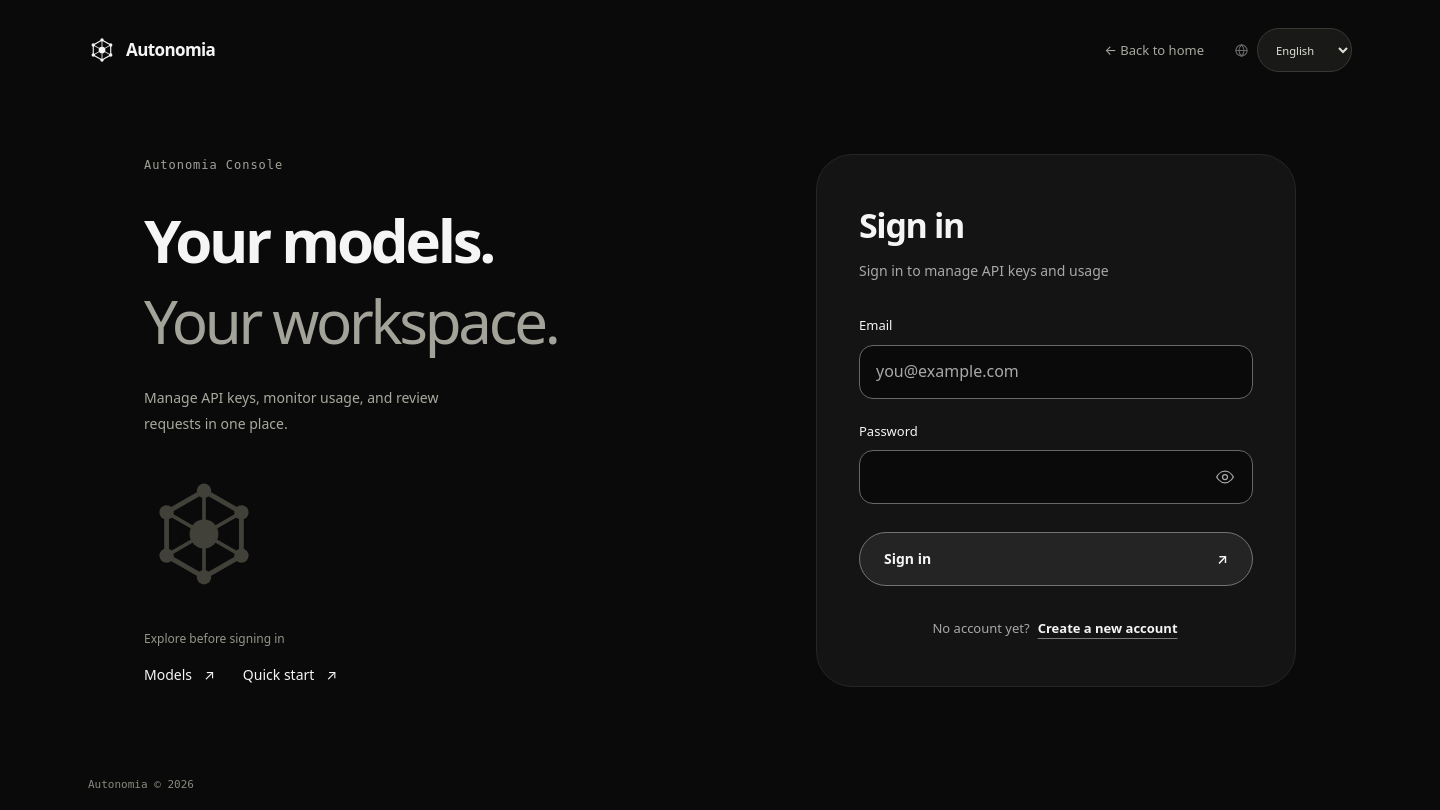
Test: LoginPage › toggles password visibility without losing its value in register mode
Click the button "Create a new account" at coordinates (1108, 628), box [1036,606,1180,650]
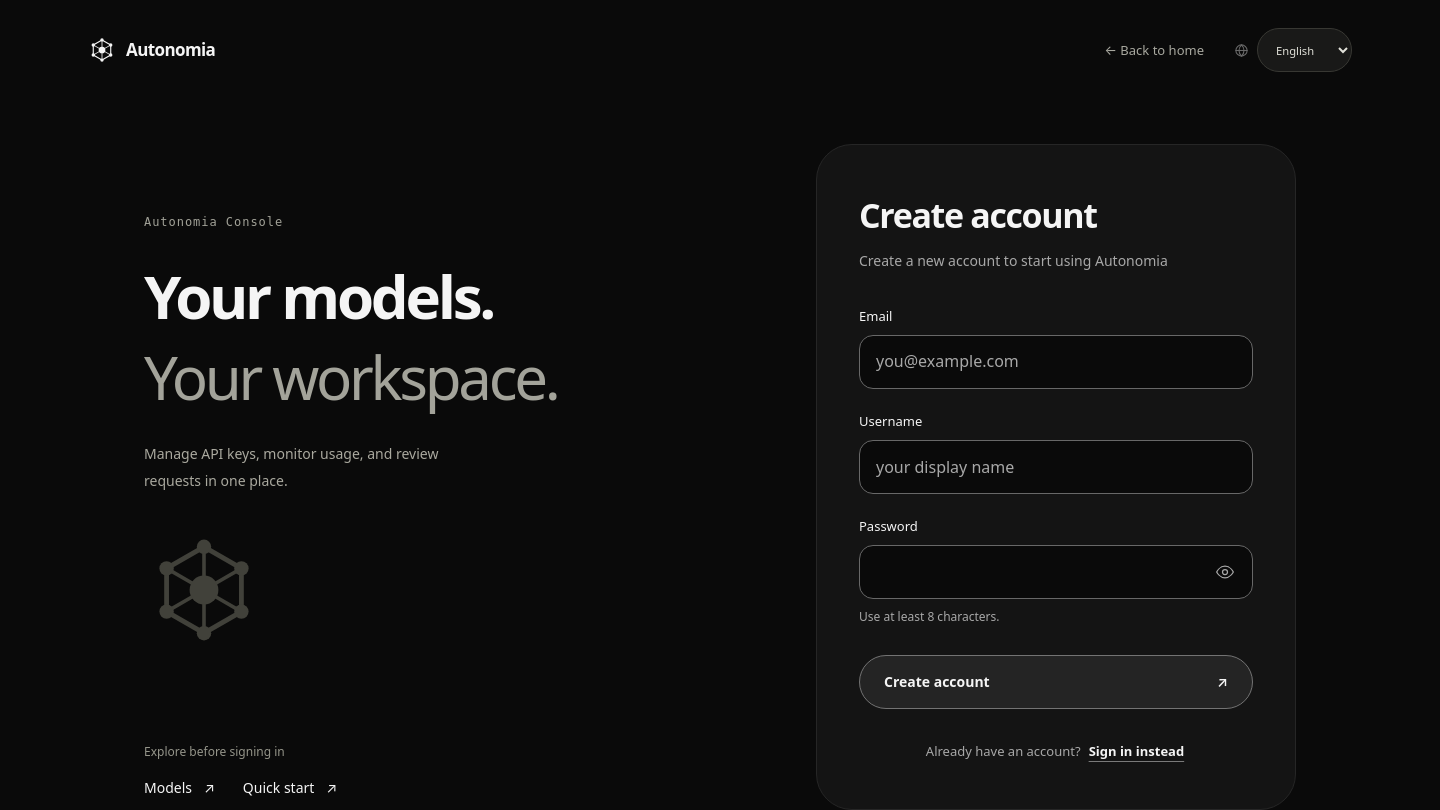
Type "login-test@example.com" into the field labelled "Email" at coordinates (1056, 362), box [859,335,1253,389]
Type "test-only-password" into the password field labelled "Password" at coordinates (1056, 572), box [859,545,1253,599]
Type "test-user" into the field labelled "Username" at coordinates (1056, 467), box [859,440,1253,494]
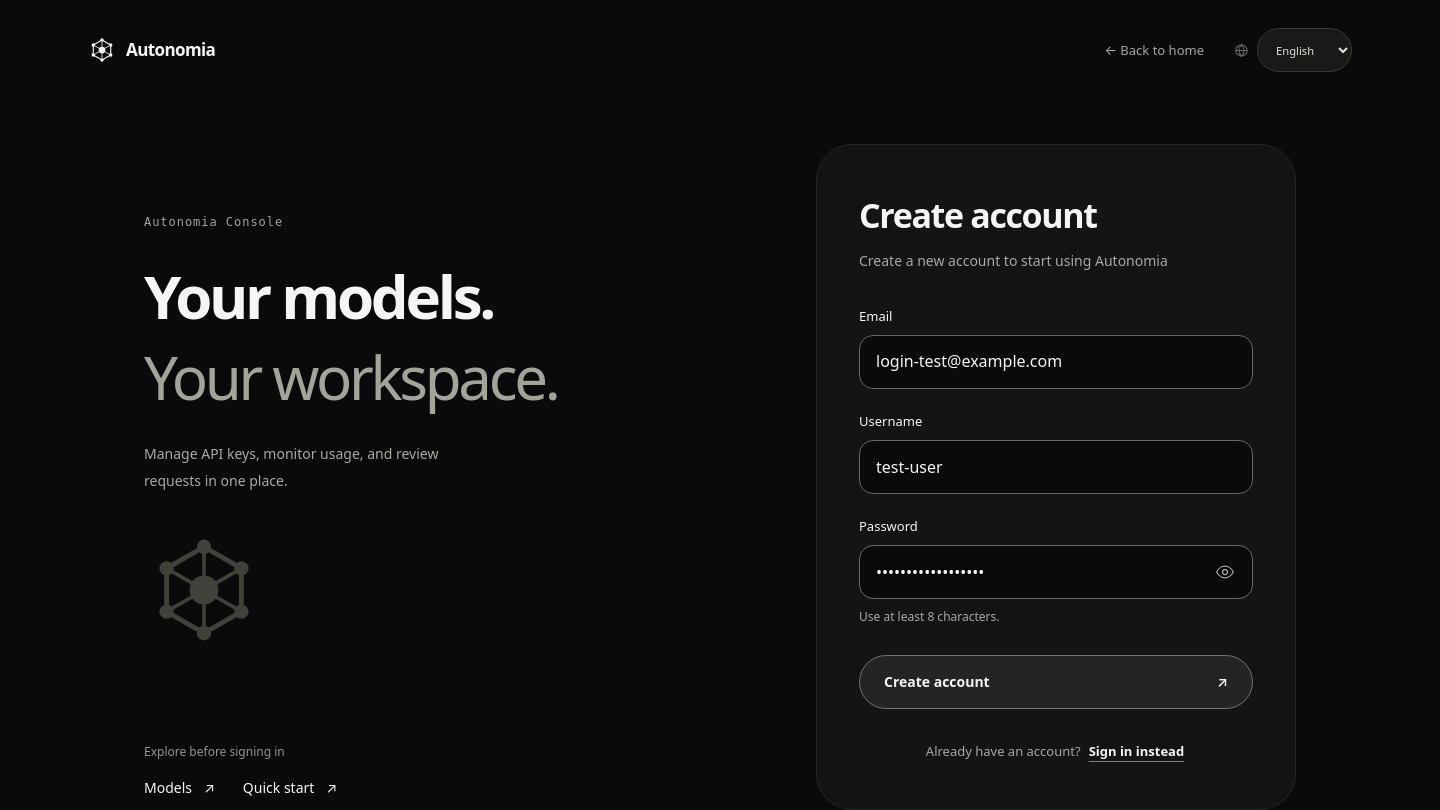
Click the button named "Show password" at coordinates (1225, 572), box [1203,550,1247,594]
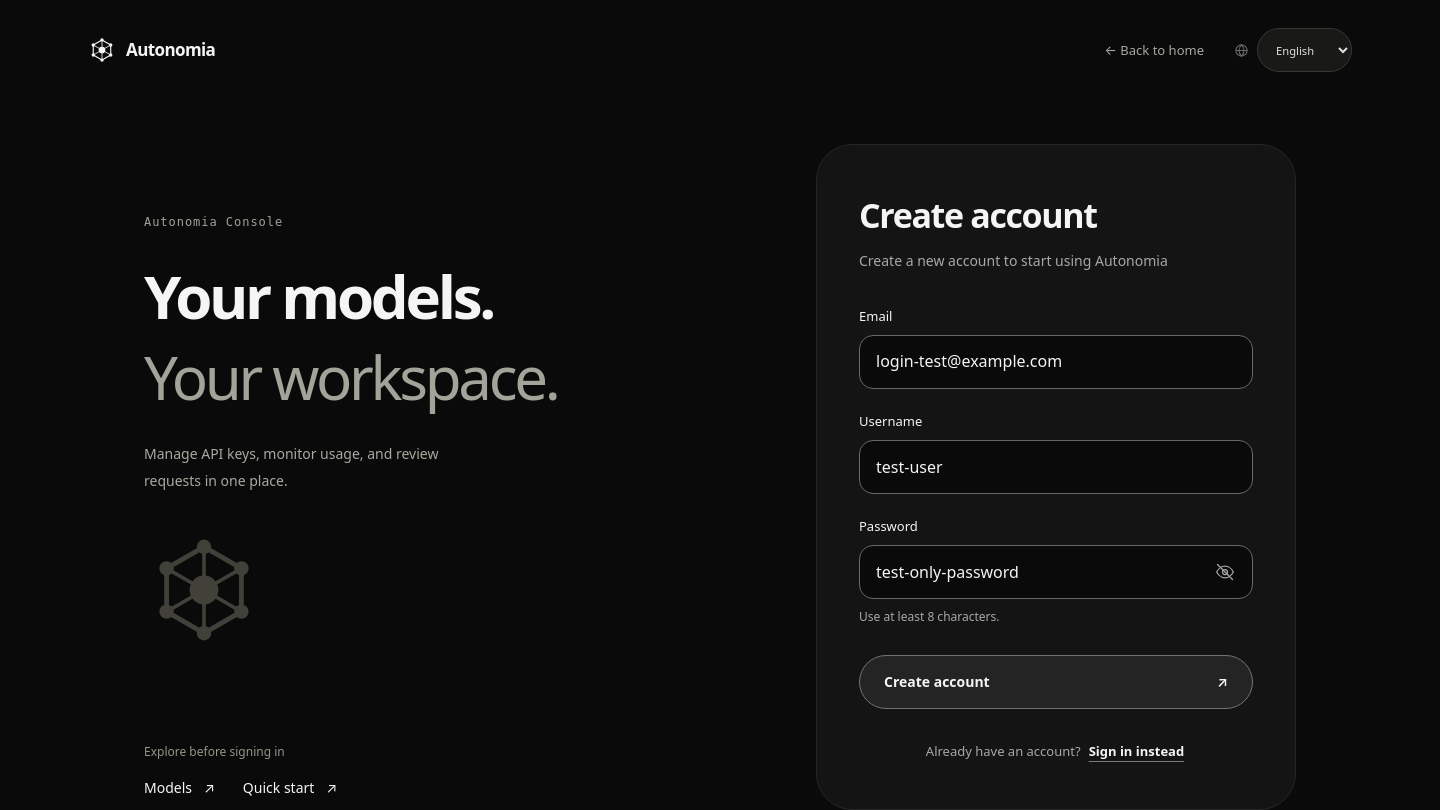
Click the button named "Hide password" at coordinates (1225, 572), box [1203,550,1247,594]
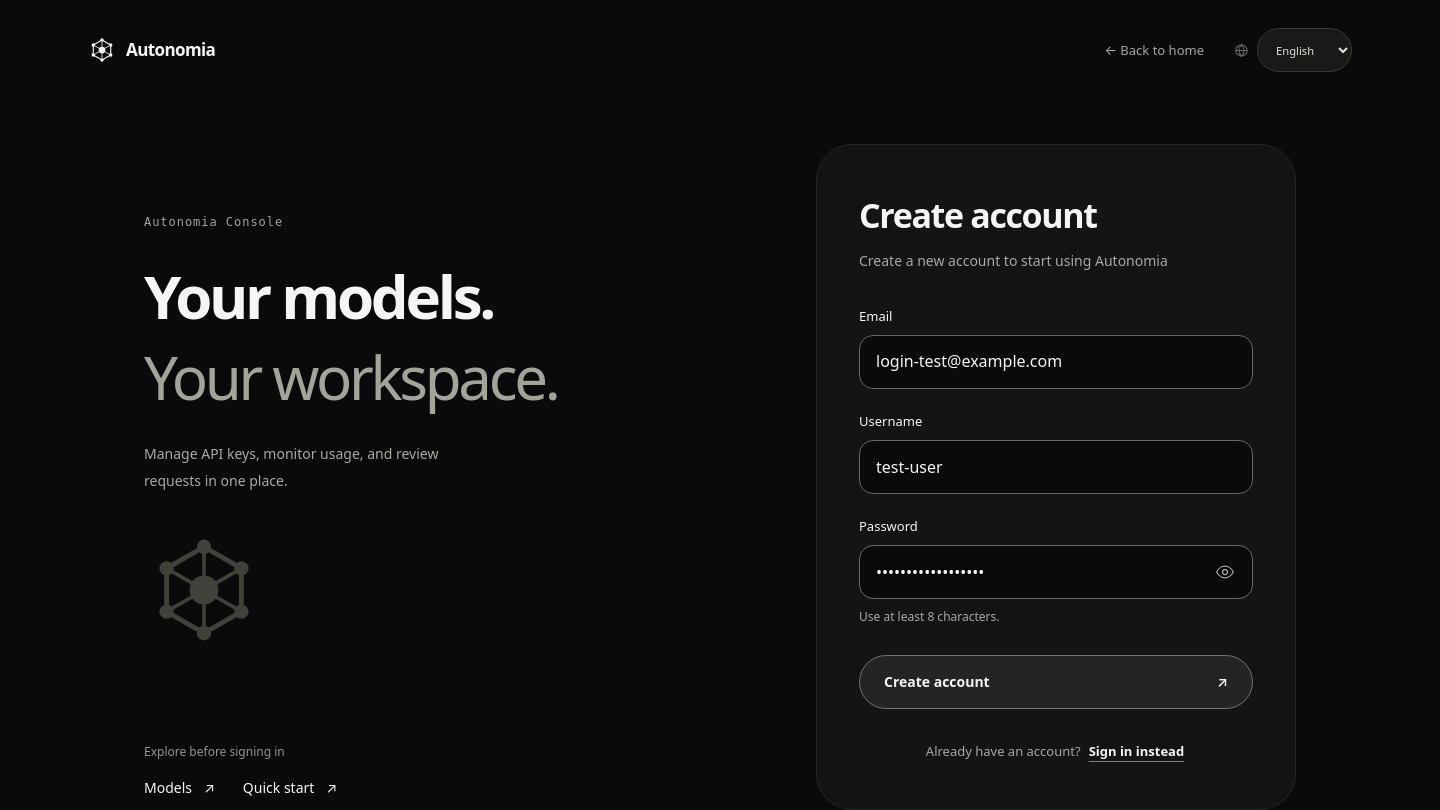
Click the button named "Show password" at coordinates (1225, 572), box [1203,550,1247,594]
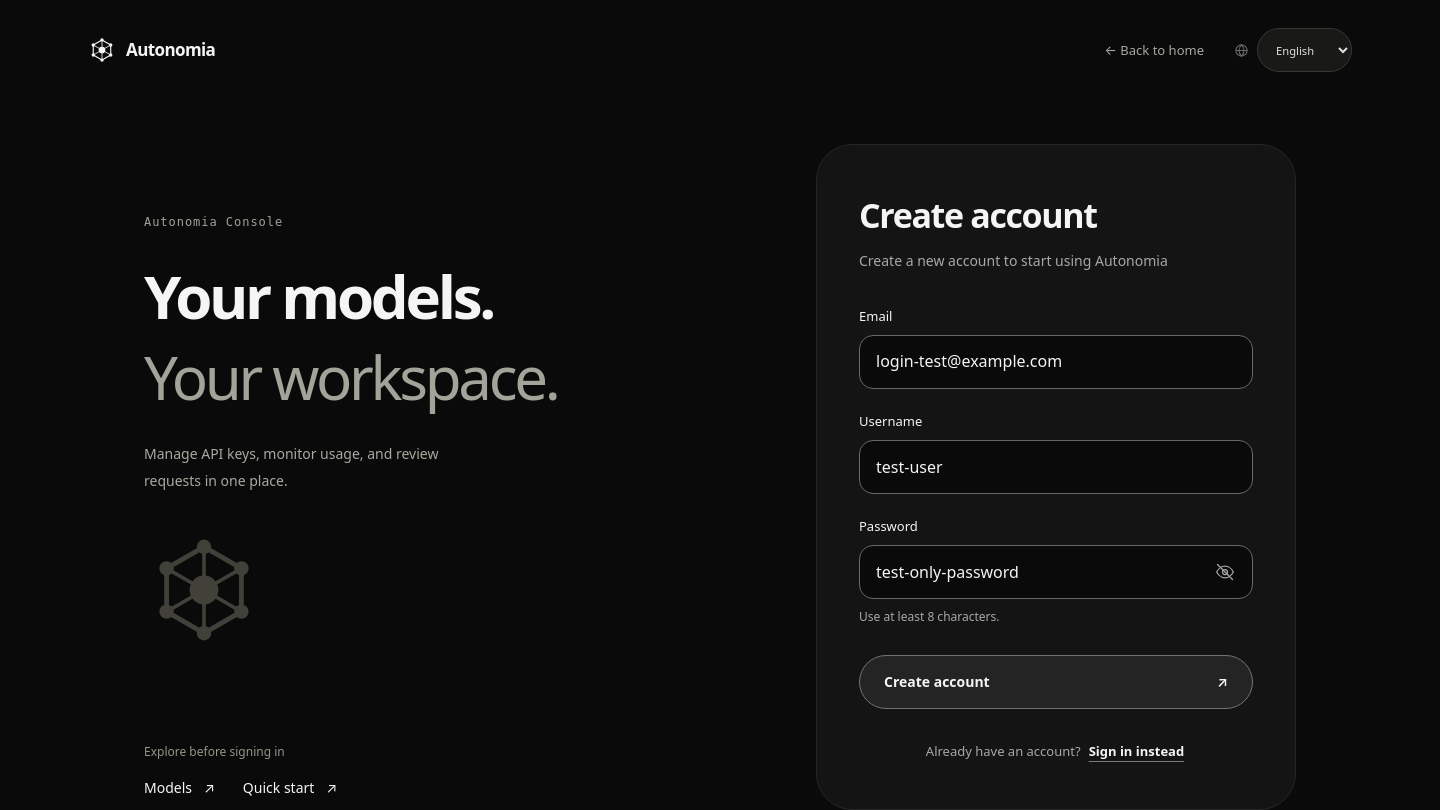
Click the button "Sign in instead" at coordinates (1136, 751), box [1087,729,1186,773]
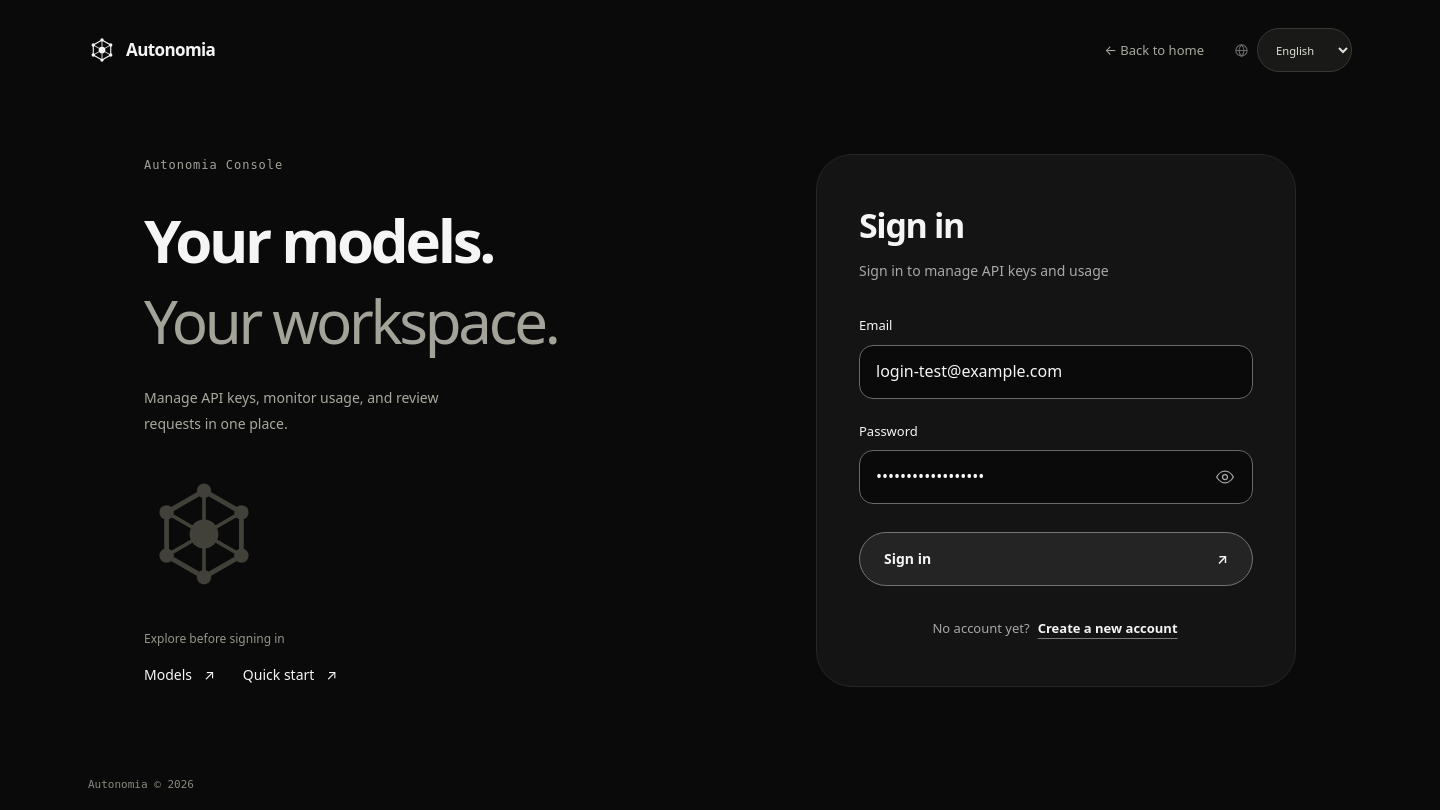
Now the button named "Show password" is shown, box [1203,455,1247,499]
